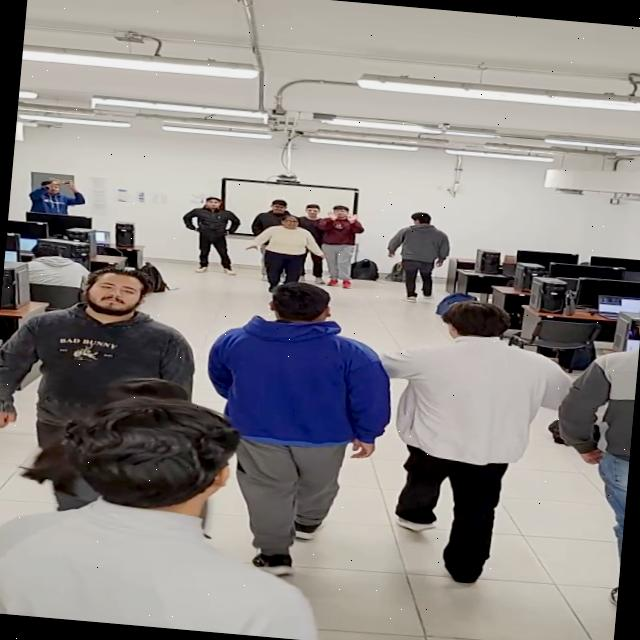Persona: (12, 385, 358, 640), (194, 271, 396, 581), (393, 296, 555, 591), (0, 256, 232, 405), (547, 295, 640, 620), (177, 195, 243, 277), (391, 207, 444, 299), (248, 214, 312, 284), (316, 204, 358, 288), (29, 172, 92, 217), (256, 198, 300, 219), (300, 200, 326, 231)
